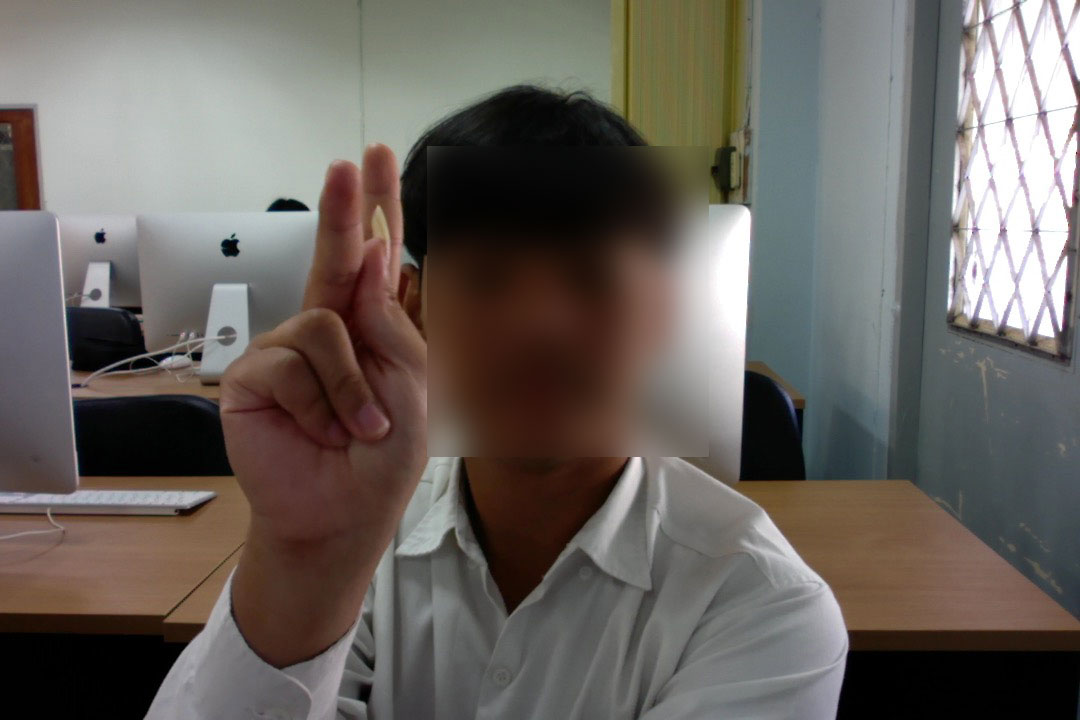ko: (206, 134, 458, 544)
